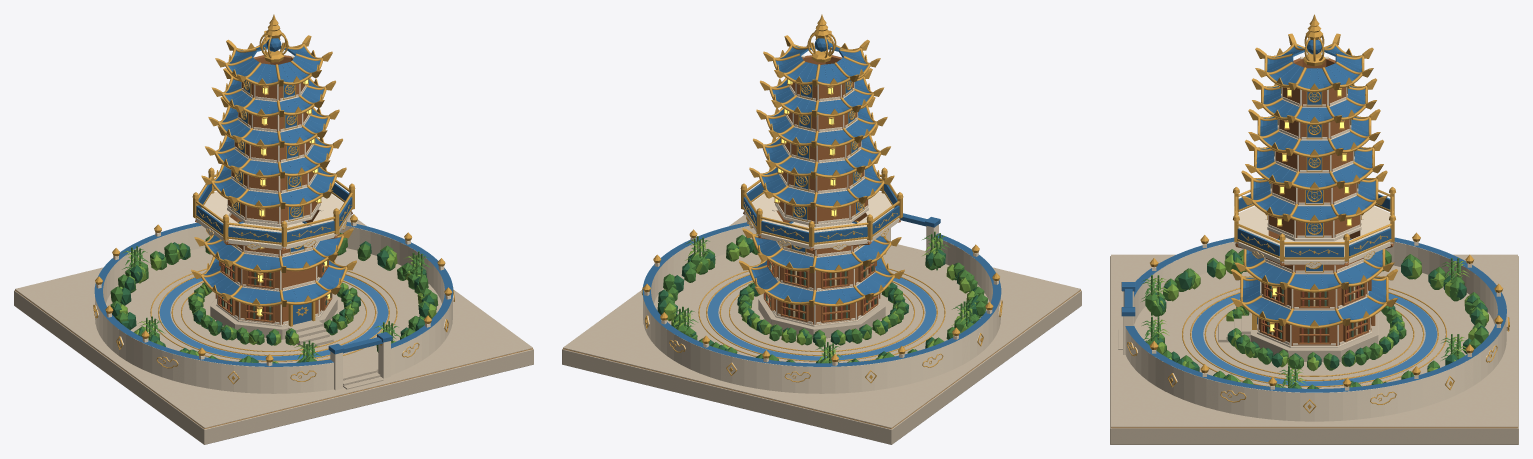
Rendered from city-5.glb.
3 renders of one model, left to right at view 1: azimuth 30°, elevation 25°; view 2: azimuth 150°, elevation 25°; view 3: azimuth 270°, elevation 25°, orthographic. The views are drawn at different scales.
Parts seen in each view (by area): view 1: SM_CT5_V4_Batch_2.002, SM_CT5_V4_Batch_69.002, SM_CT5_V4_Batch_3.002, SM_CT5_V4_Batch_0.002, SM_CT5_V4_Batch_79.002, SM_CT5_V4_Batch_70.002, SM_CT5_V4_Batch_81.002, SM_CT5_V4_Batch_5.002, SM_CT5_V4_Batch_15.002, SM_CT5_V4_Batch_96.002, SM_CT5_V4_Batch_26.002, SM_CT5_V4_Batch_59.002 (+32 smaller); view 2: SM_CT5_V4_Batch_2.002, SM_CT5_V4_Batch_69.002, SM_CT5_V4_Batch_3.002, SM_CT5_V4_Batch_0.002, SM_CT5_V4_Batch_79.002, SM_CT5_V4_Batch_70.002, SM_CT5_V4_Batch_5.002, SM_CT5_V4_Batch_81.002, SM_CT5_V4_Batch_15.002, SM_CT5_V4_Batch_4.002, SM_CT5_V4_Batch_96.002, SM_CT5_V4_Batch_80.002 (+29 smaller); view 3: SM_CT5_V4_Batch_2.002, SM_CT5_V4_Batch_69.002, SM_CT5_V4_Batch_3.002, SM_CT5_V4_Batch_0.002, SM_CT5_V4_Batch_79.002, SM_CT5_V4_Batch_70.002, SM_CT5_V4_Batch_5.002, SM_CT5_V4_Batch_81.002, SM_CT5_V4_Batch_15.002, SM_CT5_V4_Batch_66.002, SM_CT5_V4_Batch_4.002, SM_CT5_V4_Batch_59.002 (+41 smaller).
Boxes of the visible parts, x1,y1,x2,y2 form: SM_CT5_V4_Batch_2.002: (15,214,532,428); SM_CT5_V4_Batch_69.002: (95,225,452,393); SM_CT5_V4_Batch_3.002: (106,247,441,379); SM_CT5_V4_Batch_0.002: (14,290,533,444); SM_CT5_V4_Batch_79.002: (110,233,438,363); SM_CT5_V4_Batch_70.002: (94,222,453,366); SM_CT5_V4_Batch_81.002: (111,233,435,363); SM_CT5_V4_Batch_5.002: (159,275,388,360); SM_CT5_V4_Batch_15.002: (204,258,344,303); SM_CT5_V4_Batch_96.002: (196,183,352,242); SM_CT5_V4_Batch_26.002: (207,221,341,269); SM_CT5_V4_Batch_59.002: (228,43,320,83); SM_CT5_V4_Batch_2.002: (563,214,1080,428); SM_CT5_V4_Batch_69.002: (643,225,1000,393); SM_CT5_V4_Batch_3.002: (654,247,989,363); SM_CT5_V4_Batch_0.002: (562,290,1081,444); SM_CT5_V4_Batch_79.002: (661,234,987,363); SM_CT5_V4_Batch_70.002: (642,222,1001,366); SM_CT5_V4_Batch_5.002: (707,275,936,360); SM_CT5_V4_Batch_81.002: (657,237,978,363); SM_CT5_V4_Batch_15.002: (751,258,891,303); SM_CT5_V4_Batch_4.002: (698,268,945,361); SM_CT5_V4_Batch_96.002: (743,183,899,242); SM_CT5_V4_Batch_80.002: (663,239,975,362); SM_CT5_V4_Batch_2.002: (1111,254,1517,427); SM_CT5_V4_Batch_69.002: (1125,242,1506,421); SM_CT5_V4_Batch_3.002: (1134,265,1494,388); SM_CT5_V4_Batch_0.002: (1110,256,1518,444); SM_CT5_V4_Batch_79.002: (1145,249,1488,388); SM_CT5_V4_Batch_70.002: (1125,237,1506,392); SM_CT5_V4_Batch_5.002: (1192,293,1436,385); SM_CT5_V4_Batch_81.002: (1153,252,1488,388); SM_CT5_V4_Batch_15.002: (1242,277,1386,325); SM_CT5_V4_Batch_66.002: (1236,206,1392,264); SM_CT5_V4_Batch_4.002: (1182,288,1446,387); SM_CT5_V4_Batch_59.002: (1267,45,1361,88).
Size of the model in its own units: 10 by 9.31 by 10.
15 materials, 5 textured.
